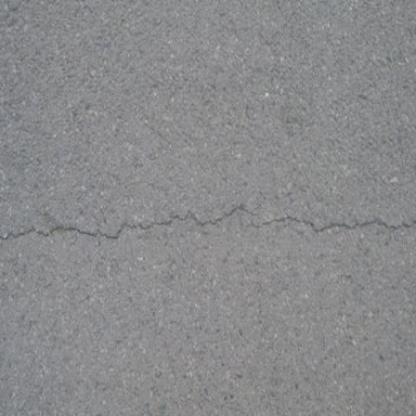Cracks: (0, 201, 415, 251)
